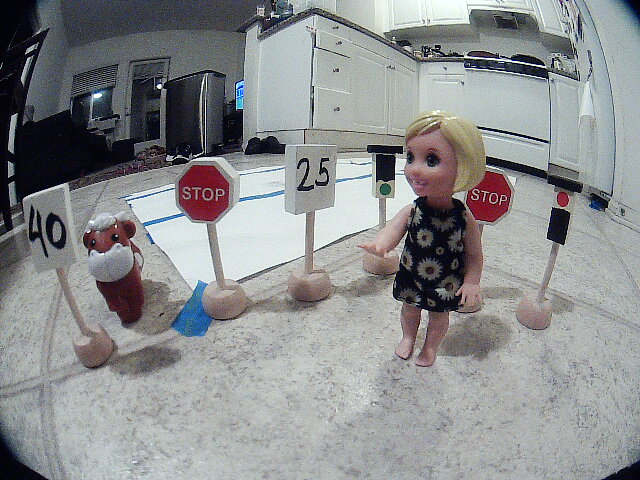Cow: (75, 214, 162, 325)
Green Traffic Light: (362, 136, 401, 210)
Person: (397, 120, 487, 370)
Red Traffic Light: (541, 169, 586, 250)
Speed Limit 25: (282, 139, 351, 220)
Speed Limit 40: (11, 184, 88, 278)
Stop Sign: (168, 158, 250, 237), (465, 161, 521, 227)
